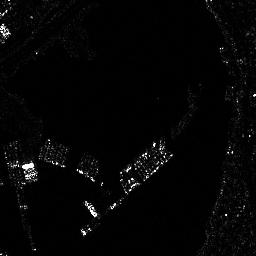ship: (82, 198, 99, 218)
